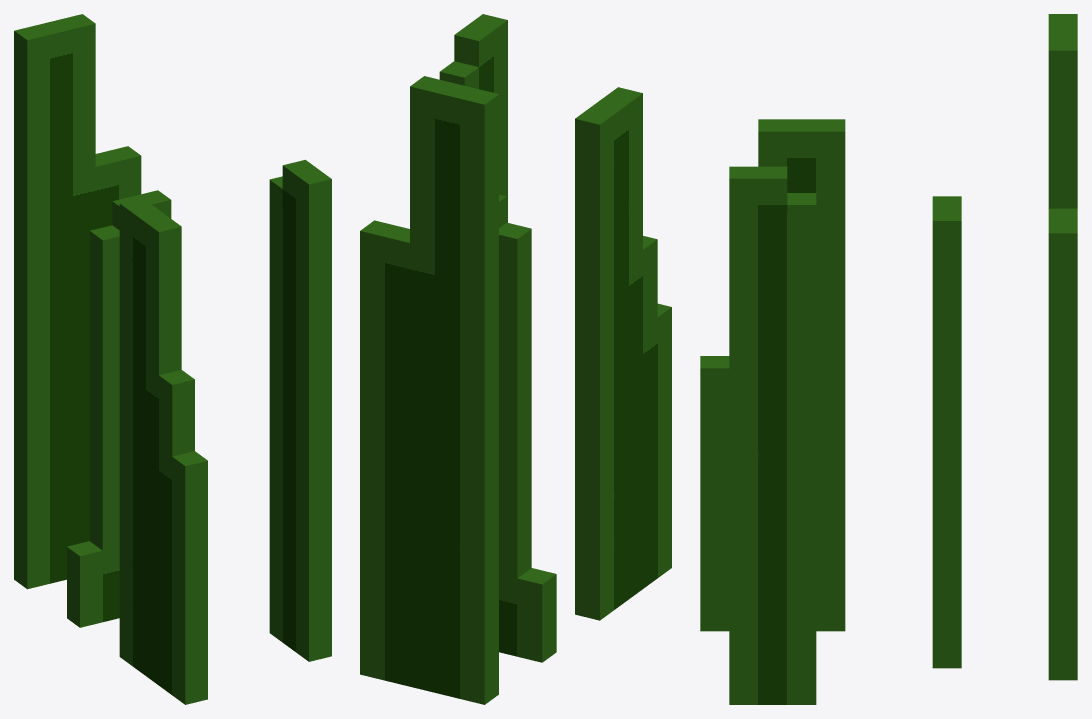
The model's file is Grama.fbx.
The picture shows the model from 3 angles, left to right: view 1: azimuth 30°, elevation 25°; view 2: azimuth 150°, elevation 25°; view 3: azimuth 270°, elevation 25°; orthographic projection. The views are drawn at different scales.
Parts seen in each view (by area): view 1: Grama.001; view 2: Grama.001; view 3: Grama.001.
Boxes of the visible parts, box(x1,y1,x2,y2) form: Grama.001: box(14, 14, 331, 704); Grama.001: box(360, 14, 671, 704); Grama.001: box(700, 14, 1077, 704).
Size of the model in its own units: 0.7 by 2.3 by 1.3.
1 material, 1 textured.
